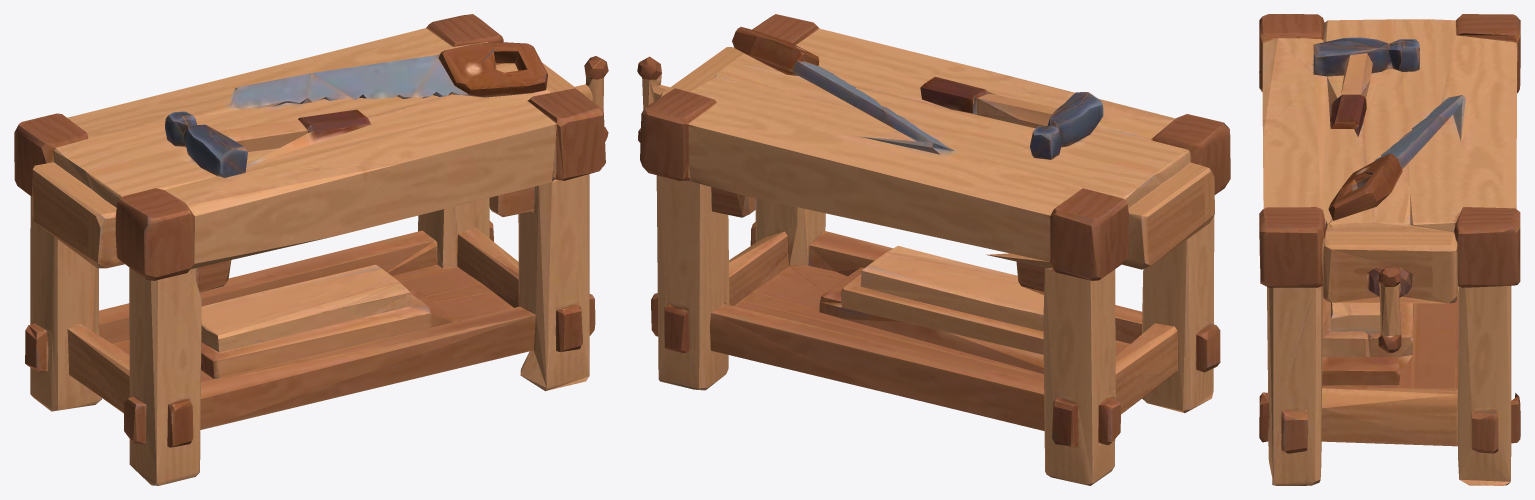
Rendered from crafting-basic.glb.
3 renders of one model, left to right at view 1: azimuth 30°, elevation 25°; view 2: azimuth 150°, elevation 25°; view 3: azimuth 270°, elevation 25°, orthographic. The views are drawn at different scales.
Visible parts, largest first — view 1: crafting-basic-fit; view 2: crafting-basic-fit; view 3: crafting-basic-fit.
Boxes of the visible parts, box(x1,y1,x2,y2) form: crafting-basic-fit: box(14, 14, 608, 485); crafting-basic-fit: box(637, 14, 1230, 485); crafting-basic-fit: box(1259, 14, 1520, 485).
Size of the model in its own units: 1.71 by 0.9225 by 0.7394.
1 material, 1 textured.
